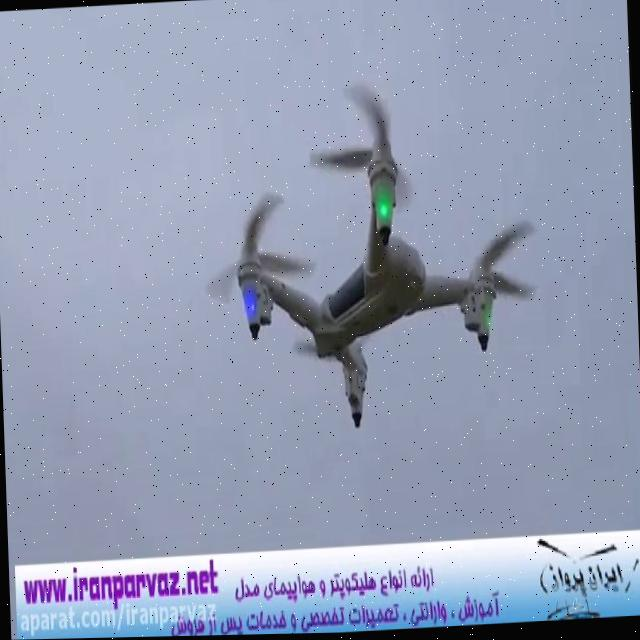drone: (192, 60, 550, 449)
